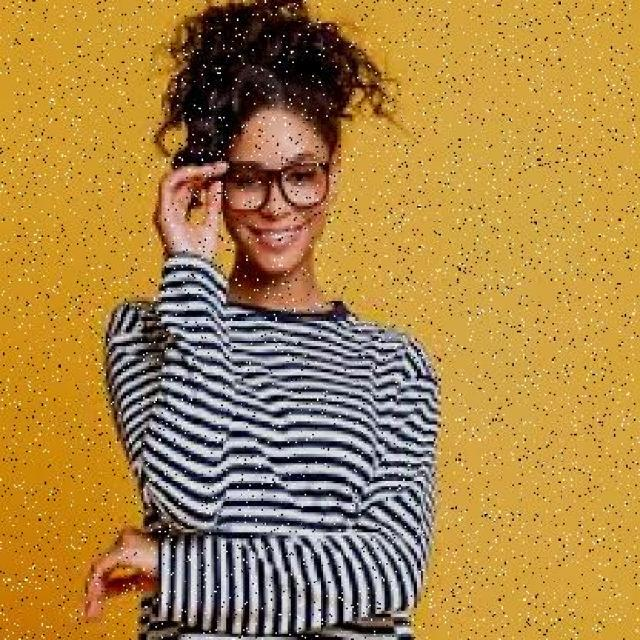mask: (200, 147, 345, 227)
